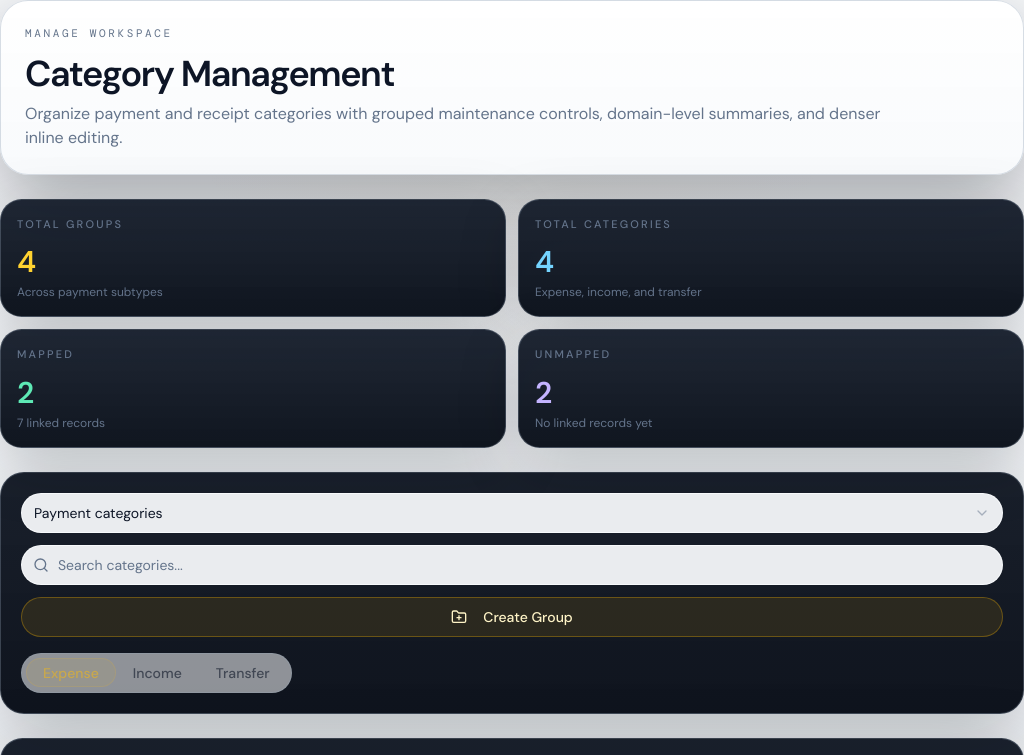
Test: CategoriesPage › keeps receipt mode non-tabbed and updates the summary cards by domain
This screenshot has width=1024, height=755.
Click the dropdown at coordinates (98, 512), box left=21, top=492, right=1003, bottom=532
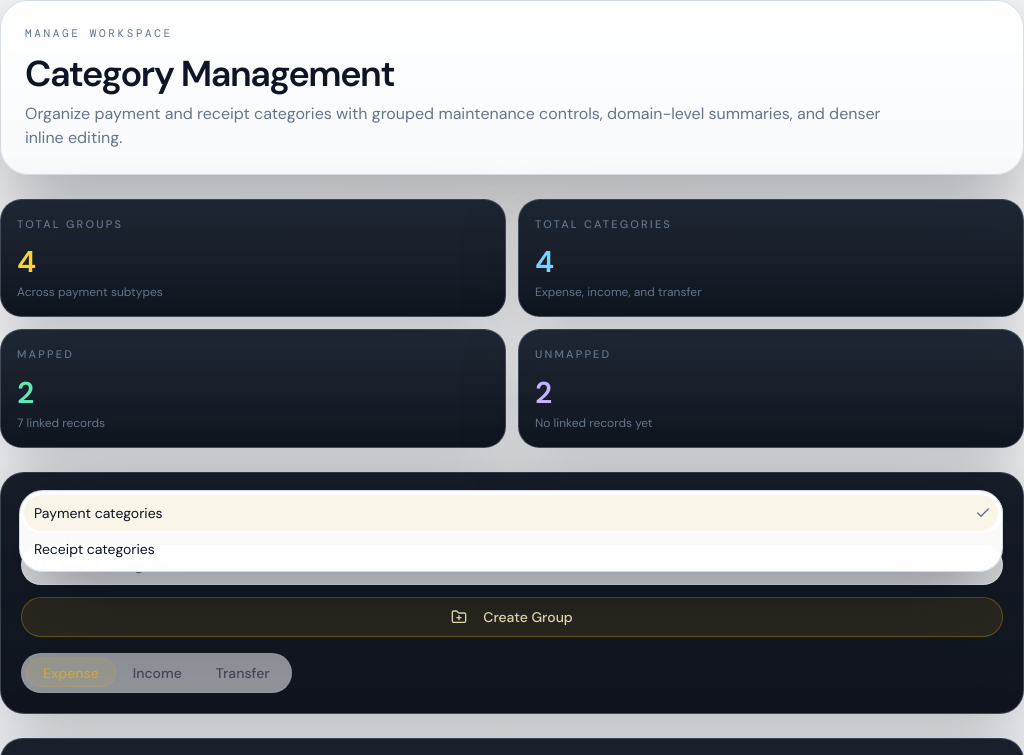
Click the option "Receipt categories" at coordinates (94, 548), box left=34, top=540, right=155, bottom=558
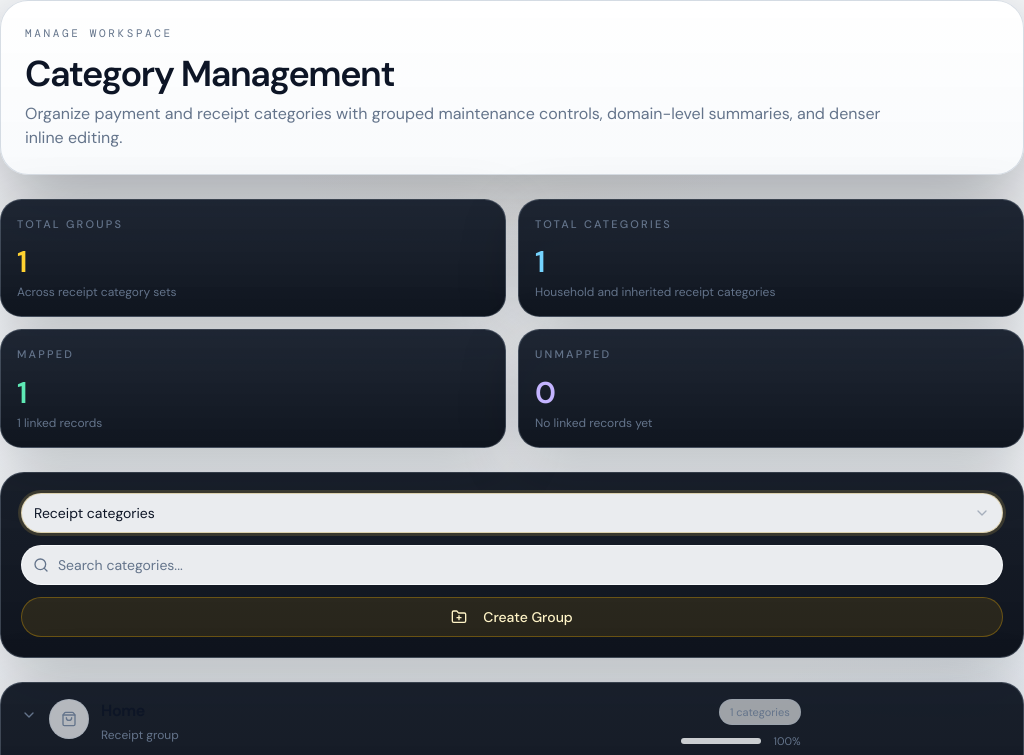
Result: the text "Expense" is gone
Result: the text "income" is gone
Result: the text "transfer" is gone
